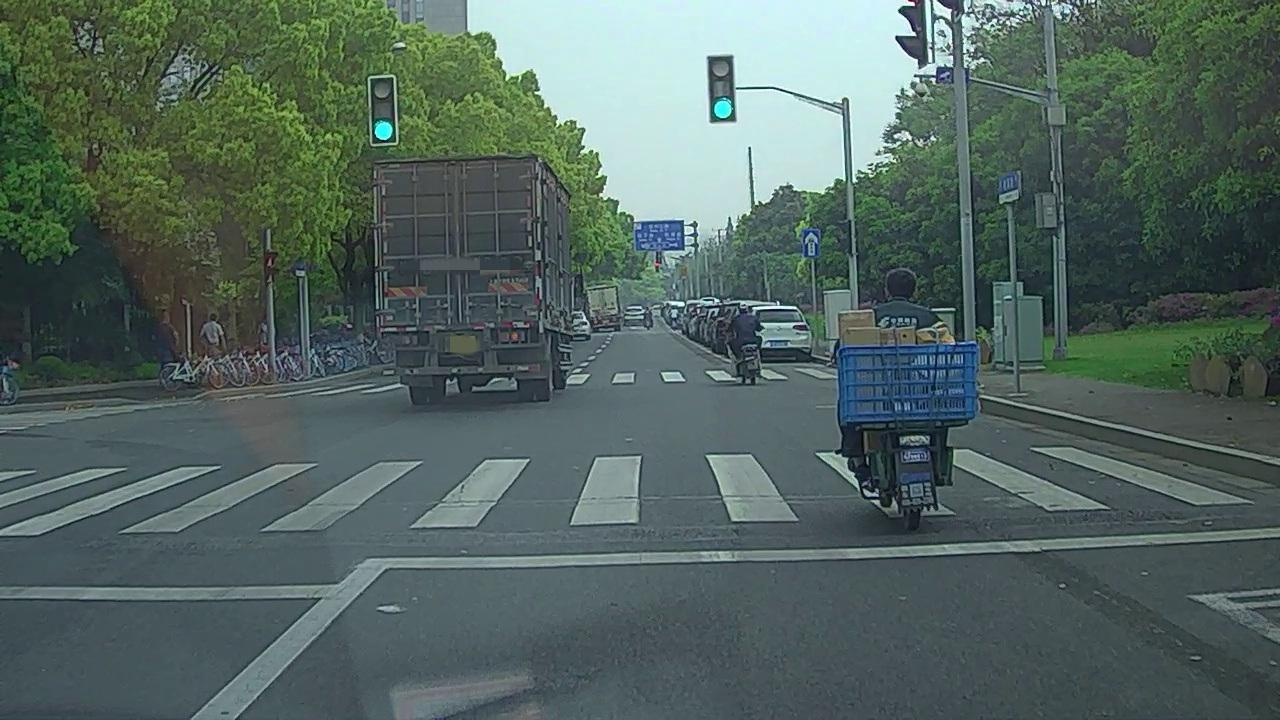traffic_light: (709, 55, 735, 122), (371, 78, 397, 144)
